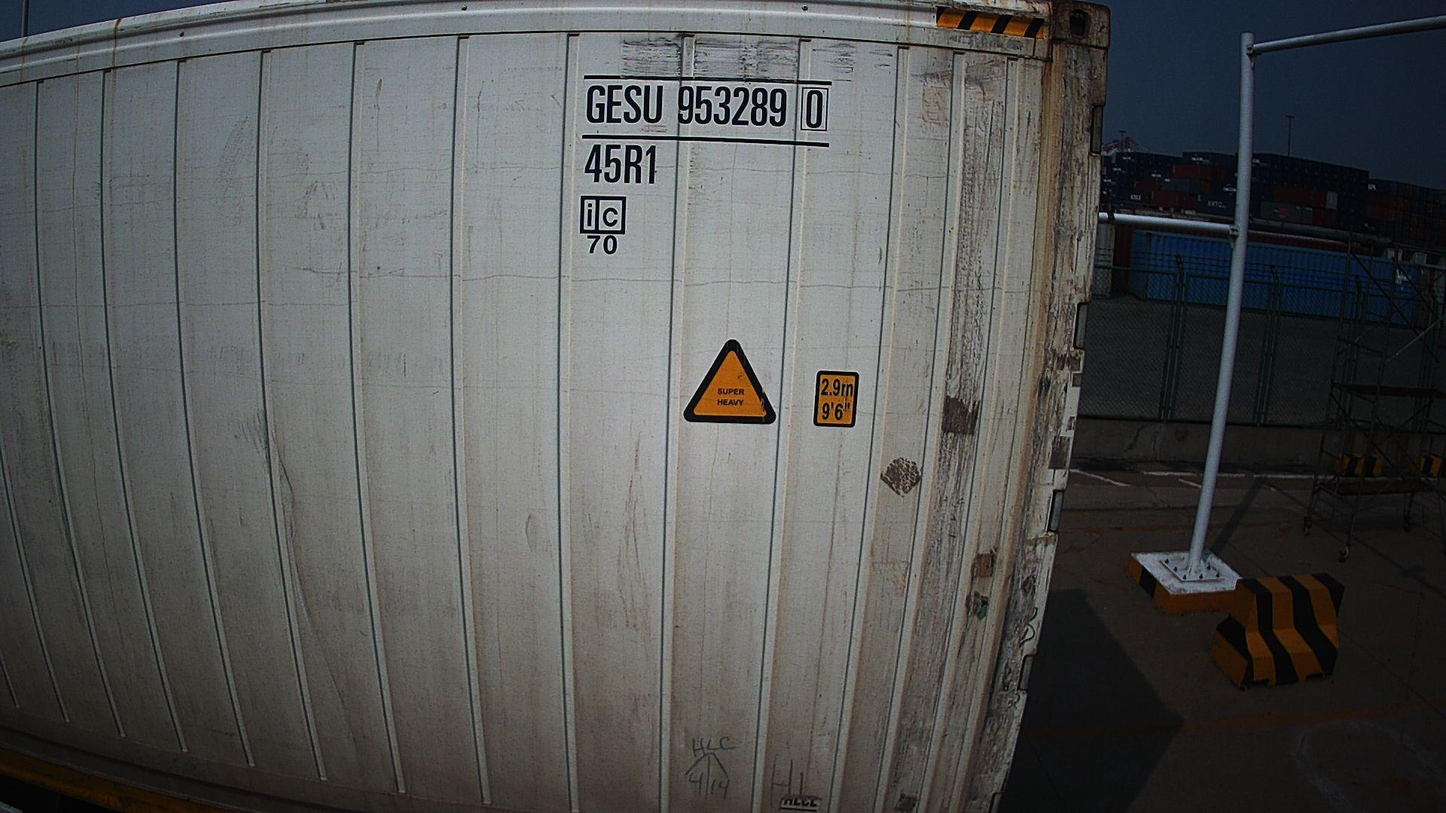container-numbers: (587, 81, 839, 132), (581, 142, 659, 188)
